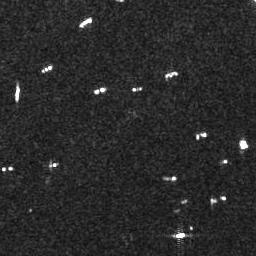ship: (13, 81, 22, 102), (78, 16, 92, 29), (237, 139, 249, 150), (93, 85, 106, 95), (174, 230, 187, 240), (165, 70, 178, 79), (40, 65, 53, 73), (195, 132, 207, 140), (165, 175, 177, 182), (132, 86, 142, 92), (48, 162, 58, 168)
